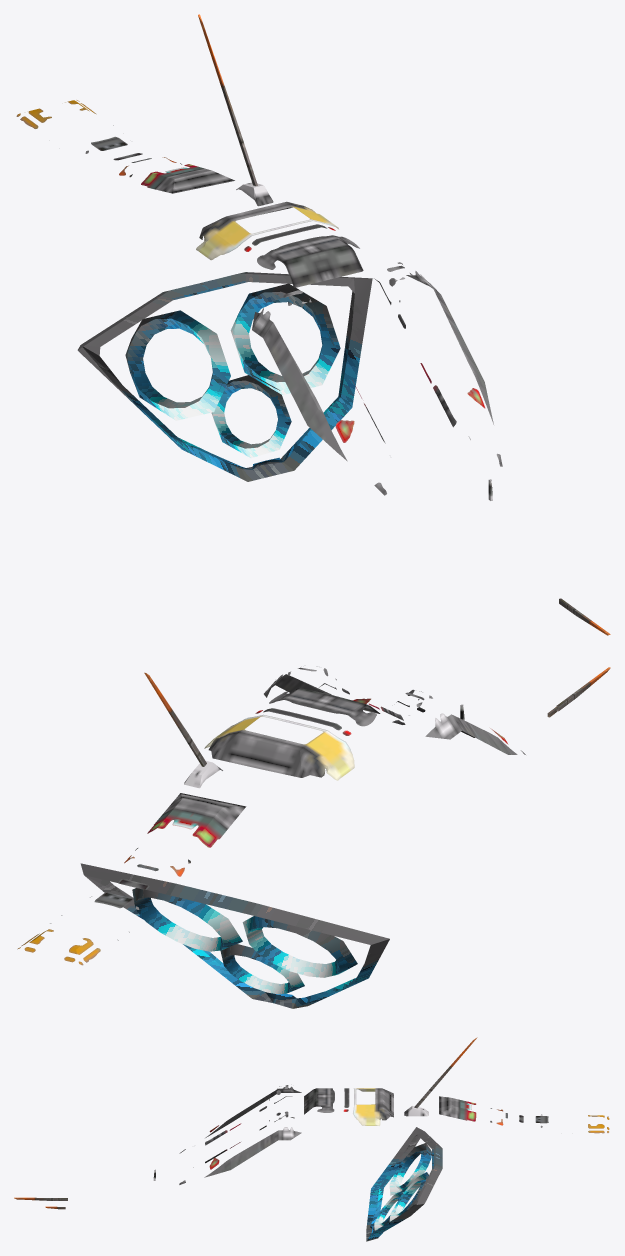
File: Goblins-UVFlip.obj
The picture shows the model from 3 angles, top to bottom: view 1: azimuth 30°, elevation 25°; view 2: azimuth 150°, elevation 25°; view 3: azimuth 270°, elevation 25°; orthographic projection. The views are drawn at different scales.
Visible parts, largest first — view 1: burnerUV, frontUV; view 2: frontUV, burnerUV; view 3: frontUV, burnerUV.
Boxes of the visible parts, <box> form: burnerUV: <box>77,272,372,481</box>; frontUV: <box>16,14,610,635</box>; frontUV: <box>17,666,610,965</box>; burnerUV: <box>80,863,389,1008</box>; frontUV: <box>14,1037,609,1209</box>; burnerUV: <box>366,1127,442,1241</box>.
Bounding box in the file's own units: 6.8 × 8.35 × 21.94.
